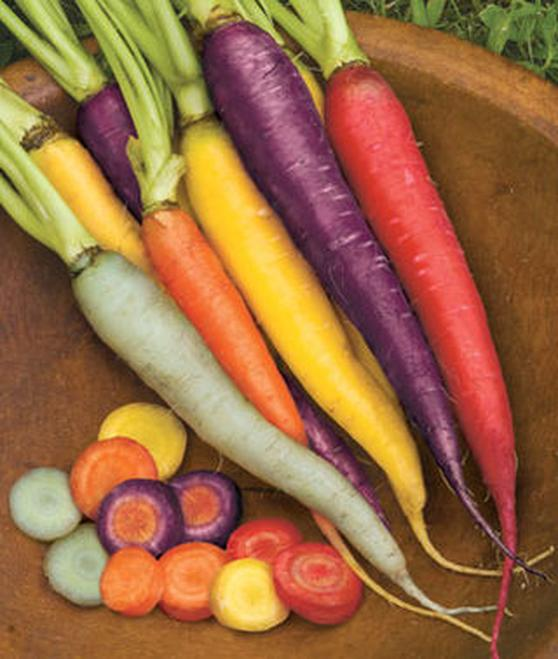carrot: (133, 192, 318, 447)
